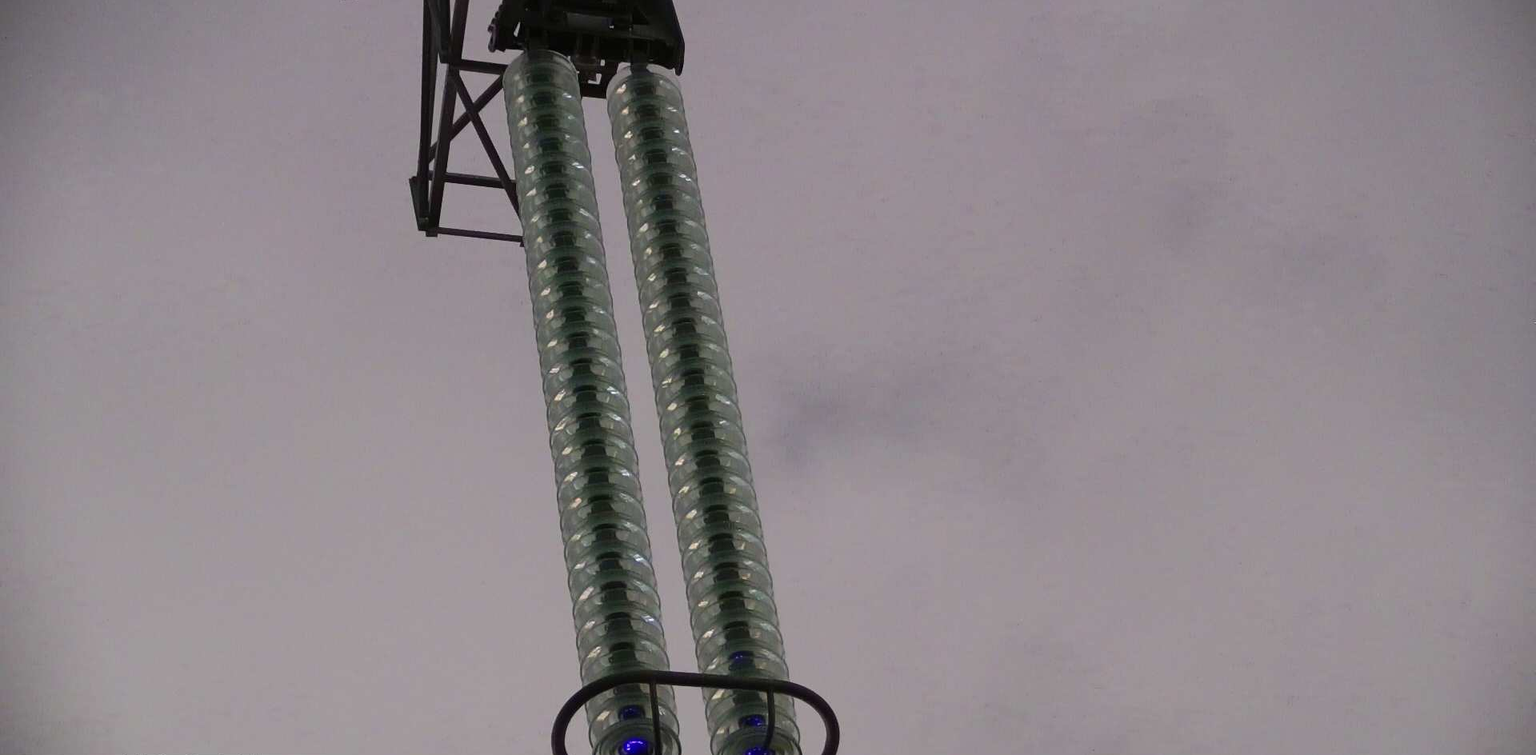绝缘子污闪: (622, 738, 647, 755), (746, 715, 764, 726), (746, 745, 768, 754), (622, 707, 639, 717), (734, 655, 743, 659)
